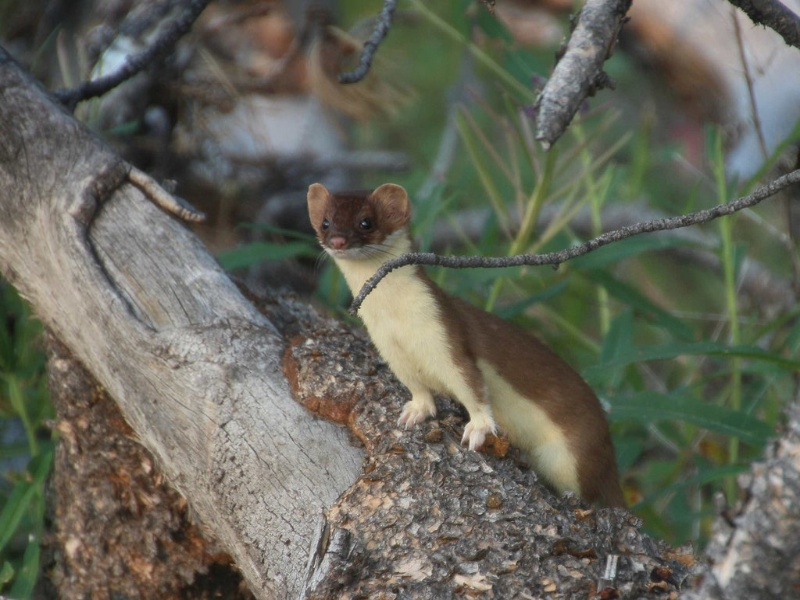minkish: (301, 176, 633, 528)
